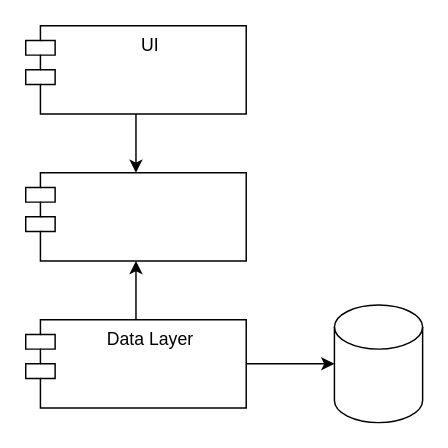
The diagram is 448 pixels wide and 448 high, and some of its shapes have lost their labels. Here are the shapes that lost their labels. From the top down, the centre of each, then its label:
At point (135, 216): "Core".
At point (378, 363): "File".
